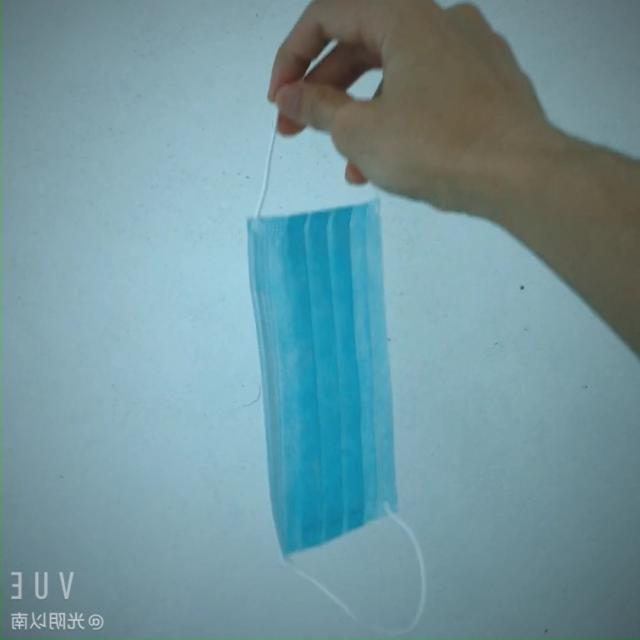face mask: (234, 190, 412, 554)
